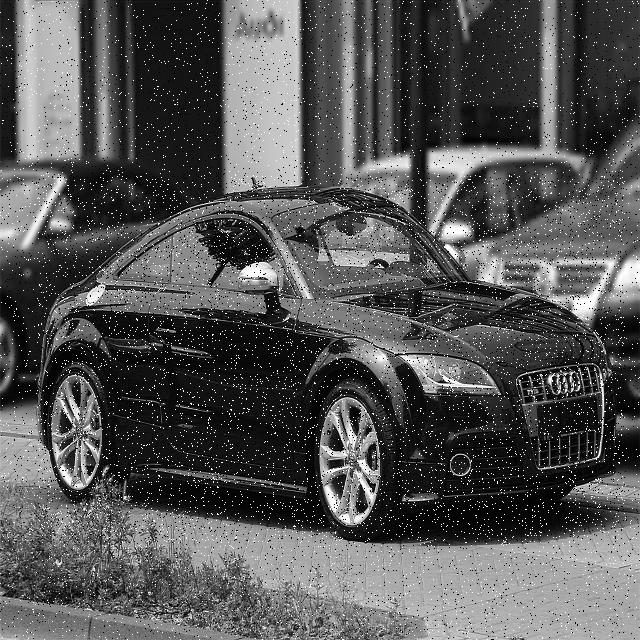Sedan: (38, 175, 624, 543)
